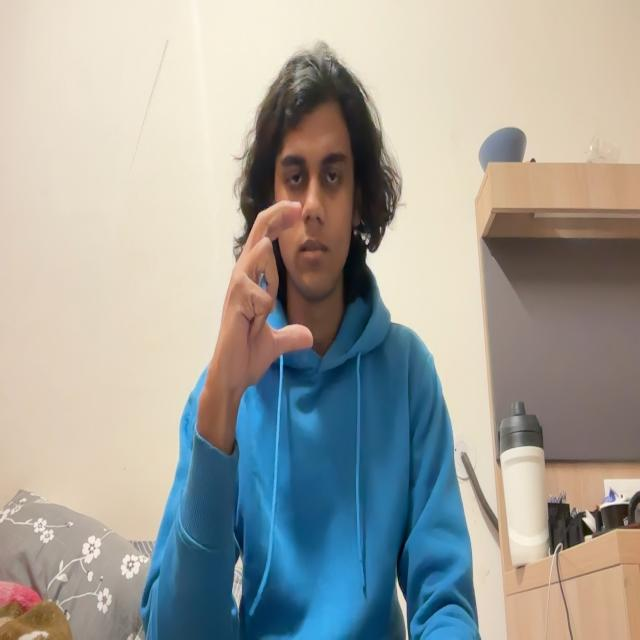No: (204, 196, 315, 409)
